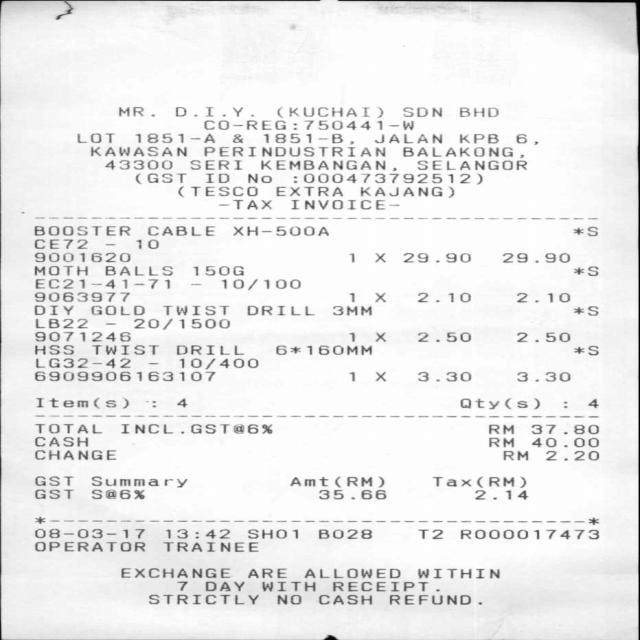text: (293, 173, 482, 183), (203, 120, 412, 129), (202, 146, 384, 156), (33, 370, 214, 380), (458, 530, 598, 540), (34, 278, 170, 288), (260, 160, 395, 170), (402, 146, 522, 157), (33, 528, 143, 538), (33, 541, 143, 551), (291, 199, 398, 209), (263, 132, 352, 144), (132, 318, 229, 329), (275, 107, 381, 117), (332, 581, 438, 591), (359, 186, 453, 197), (289, 476, 383, 487), (35, 397, 128, 408), (432, 477, 525, 488), (416, 160, 526, 169), (120, 568, 230, 577), (148, 594, 258, 603), (274, 344, 371, 354), (33, 252, 129, 262), (33, 331, 129, 341), (303, 568, 399, 578), (90, 146, 185, 156), (33, 226, 128, 236), (91, 476, 186, 486), (220, 278, 299, 290), (388, 594, 481, 604), (178, 358, 257, 369), (232, 226, 328, 235), (178, 186, 256, 197), (33, 292, 128, 301), (35, 358, 129, 367), (163, 542, 257, 551), (190, 423, 271, 433), (417, 568, 498, 578), (458, 398, 538, 408), (34, 450, 114, 459), (134, 133, 213, 142), (174, 106, 251, 115), (245, 305, 313, 315), (529, 424, 597, 434), (317, 489, 385, 499), (374, 133, 441, 143), (103, 159, 170, 169), (402, 252, 469, 262), (104, 265, 171, 275), (276, 186, 342, 196), (91, 344, 157, 354), (34, 423, 100, 433), (531, 437, 597, 447), (162, 305, 227, 315), (164, 528, 228, 538), (501, 253, 569, 262), (146, 226, 213, 235), (176, 345, 242, 354), (90, 305, 144, 315), (516, 371, 570, 381), (118, 423, 172, 433), (90, 489, 144, 499), (317, 528, 371, 538), (317, 594, 371, 604), (33, 238, 86, 248), (33, 265, 86, 275), (417, 371, 470, 381), (33, 436, 86, 446), (544, 450, 597, 460), (473, 489, 526, 499), (261, 581, 314, 591), (218, 199, 270, 209), (516, 292, 568, 302), (34, 318, 86, 328), (134, 173, 184, 183), (192, 266, 242, 276), (516, 332, 570, 341), (417, 292, 470, 301), (417, 332, 470, 341), (188, 160, 240, 169), (246, 529, 298, 538), (402, 106, 441, 116), (33, 304, 72, 314), (33, 344, 72, 354), (33, 475, 72, 485), (246, 568, 285, 578), (460, 133, 498, 143), (332, 305, 370, 315), (33, 489, 72, 498), (204, 581, 243, 590), (118, 106, 153, 116), (460, 107, 498, 116), (76, 133, 114, 142), (501, 450, 527, 460), (488, 437, 513, 447), (246, 172, 270, 182), (574, 305, 598, 315), (574, 345, 598, 355), (416, 529, 442, 538), (515, 133, 536, 144), (205, 172, 228, 182), (277, 594, 300, 604), (487, 424, 512, 433), (572, 226, 596, 235), (572, 266, 596, 275), (136, 239, 158, 248), (374, 332, 385, 342), (374, 252, 384, 262), (374, 371, 384, 381), (175, 398, 186, 407), (176, 581, 187, 590), (346, 252, 355, 262), (374, 292, 384, 301), (588, 398, 597, 407), (232, 134, 242, 142), (348, 371, 356, 381), (348, 332, 356, 341), (348, 292, 354, 302)
